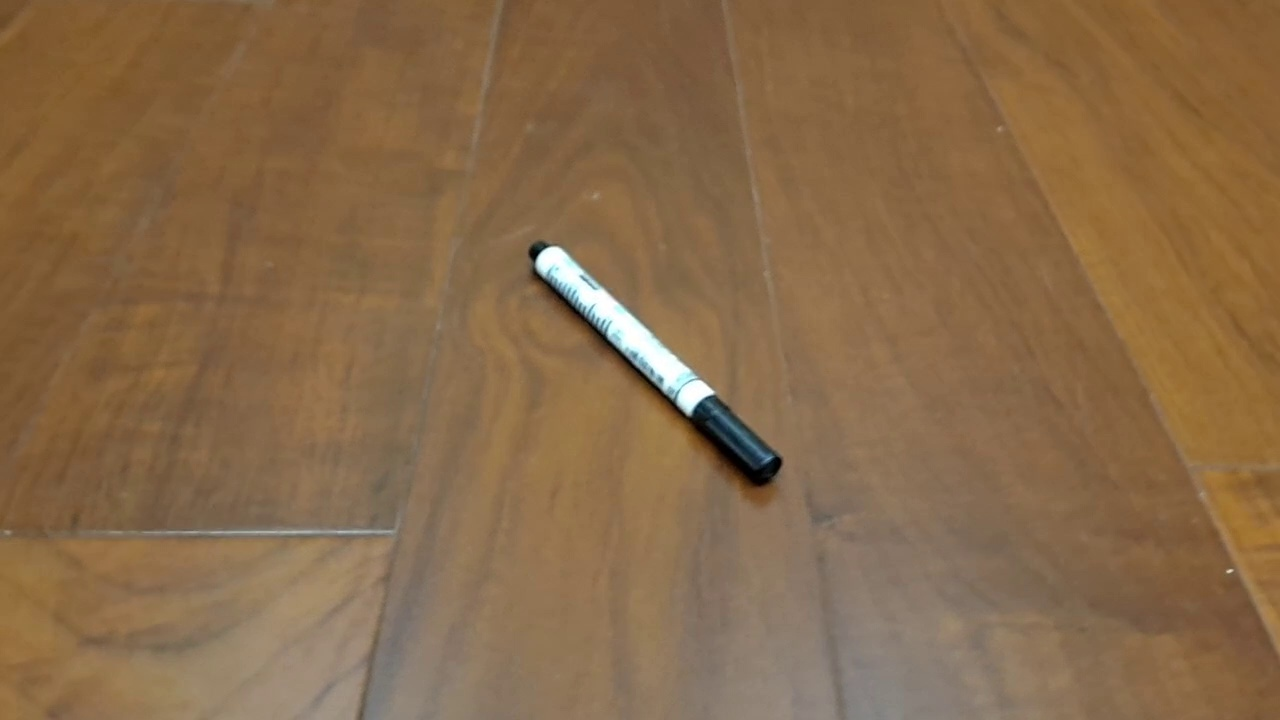pen: (527, 238, 784, 488)
